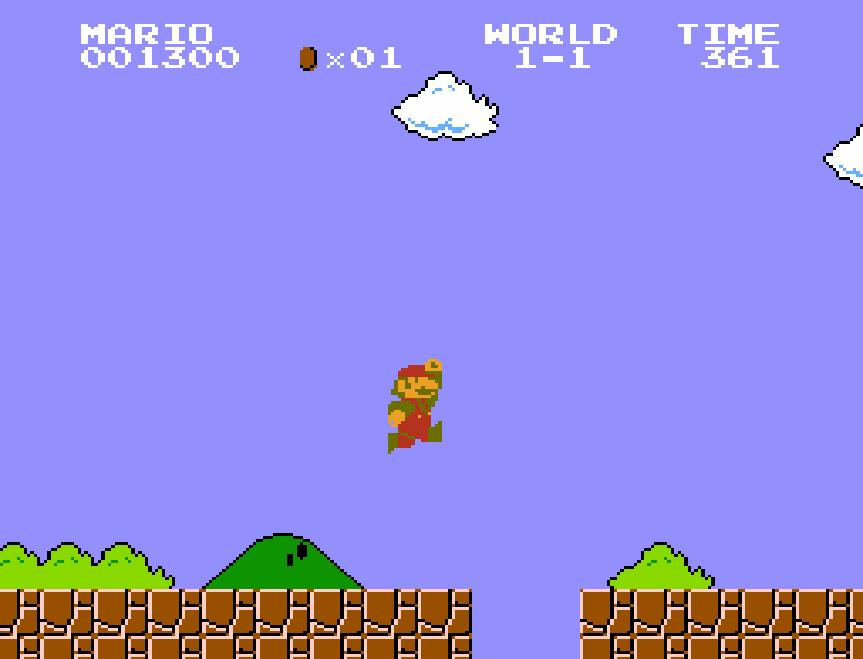big_mario: (386, 357, 444, 456)
